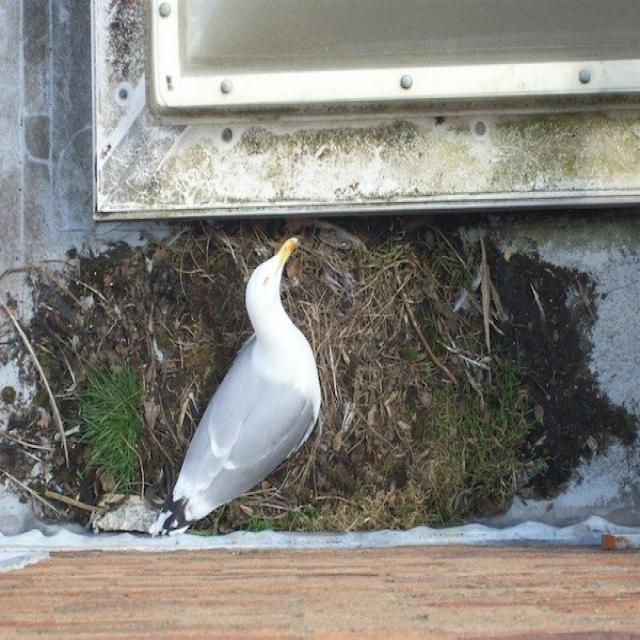bird: (148, 236, 322, 538)
